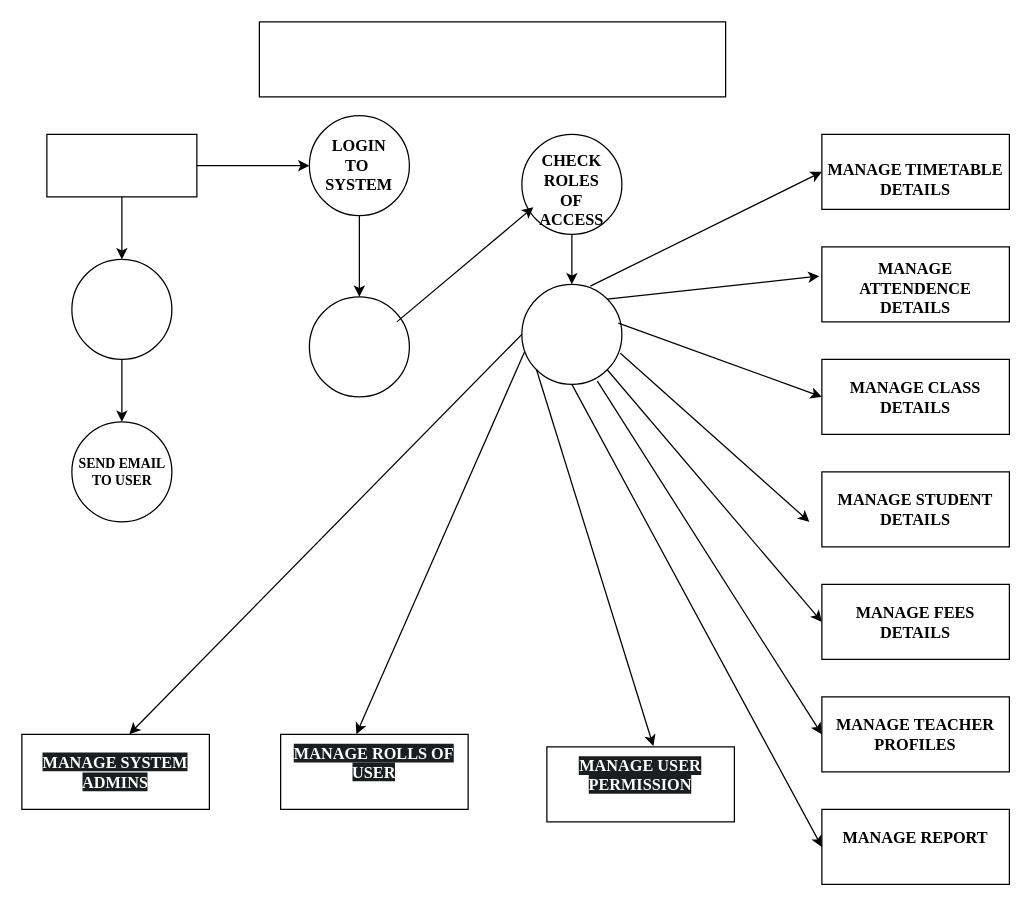
Image size: 1031x906. Some labels were removed from this diagram. The box of each missing label's shape, as (x1, y1, x2, y2) in pixels:
ADMI N: (46, 133, 197, 197)
CHECK CREDENTIALS: (308, 296, 409, 397)
F ORGOT PASSWORD: (71, 258, 172, 359)
MANAGE MODULES: (521, 283, 622, 384)
Student Information System: (258, 21, 726, 97)
